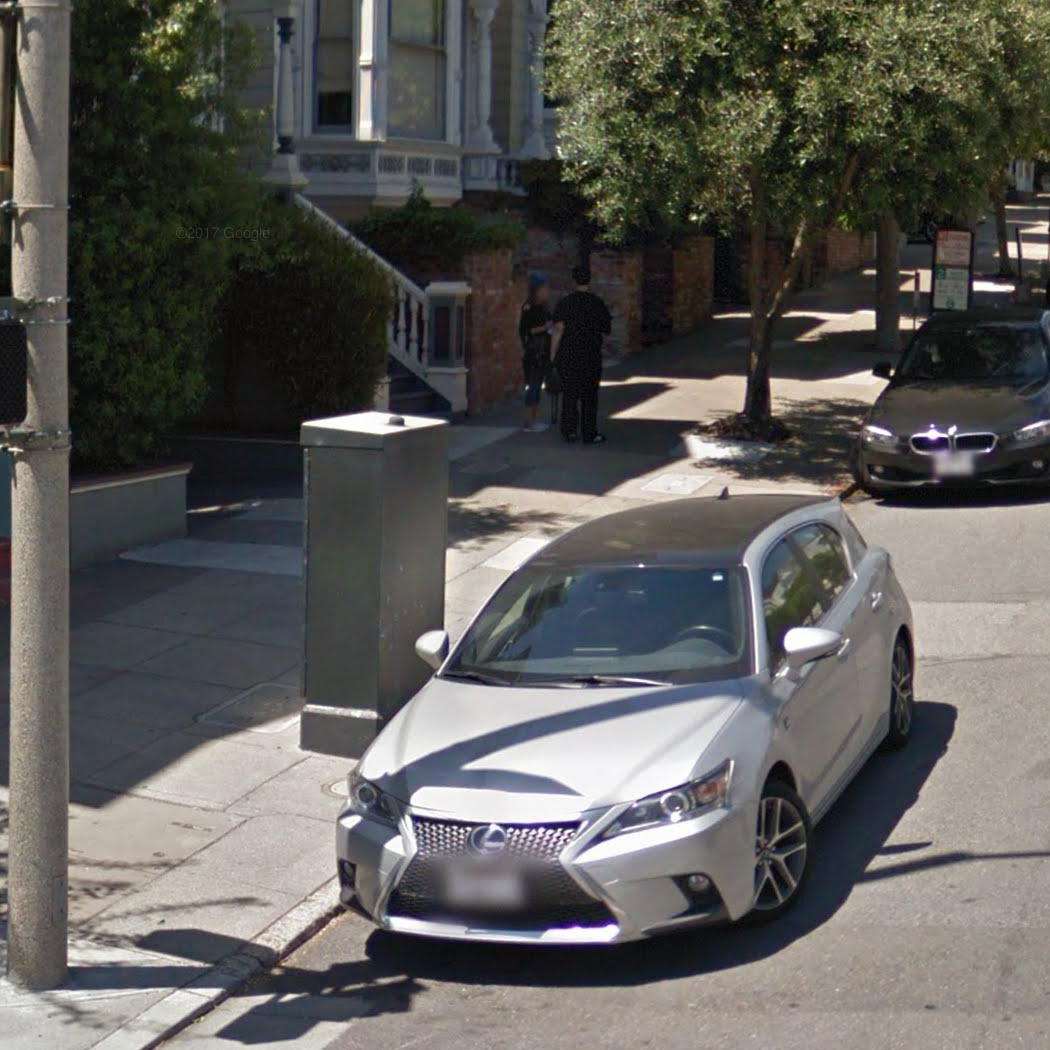2 Hour Parking: (932, 268, 970, 309)
No Parking: (935, 229, 973, 265)
